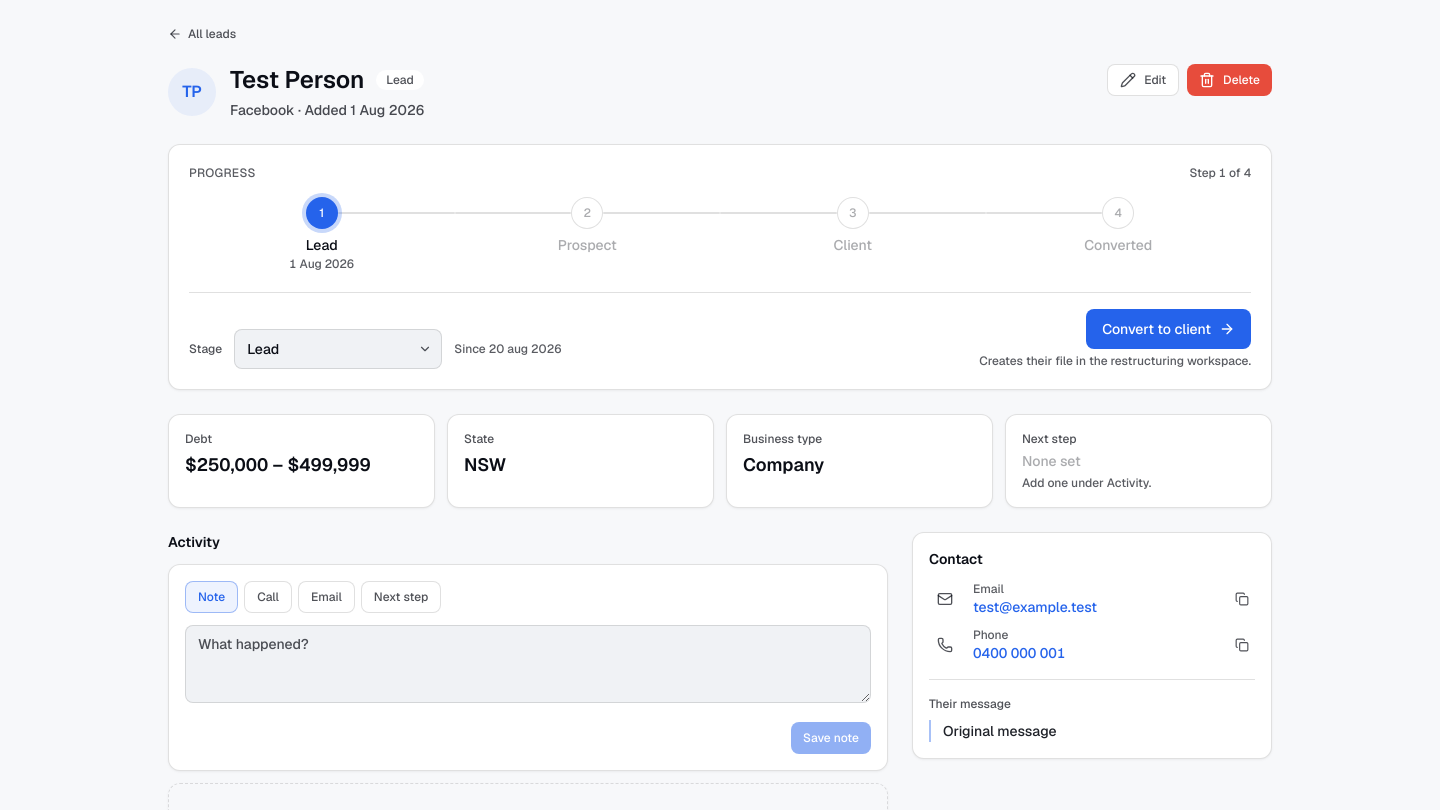
Test: Edit lead › opens prefilled from the lead
This screenshot has width=1440, height=810.
Click the button "Edit" at [1143, 80], box x1=1107 y1=64 x2=1179 y2=96
(page scrolled)
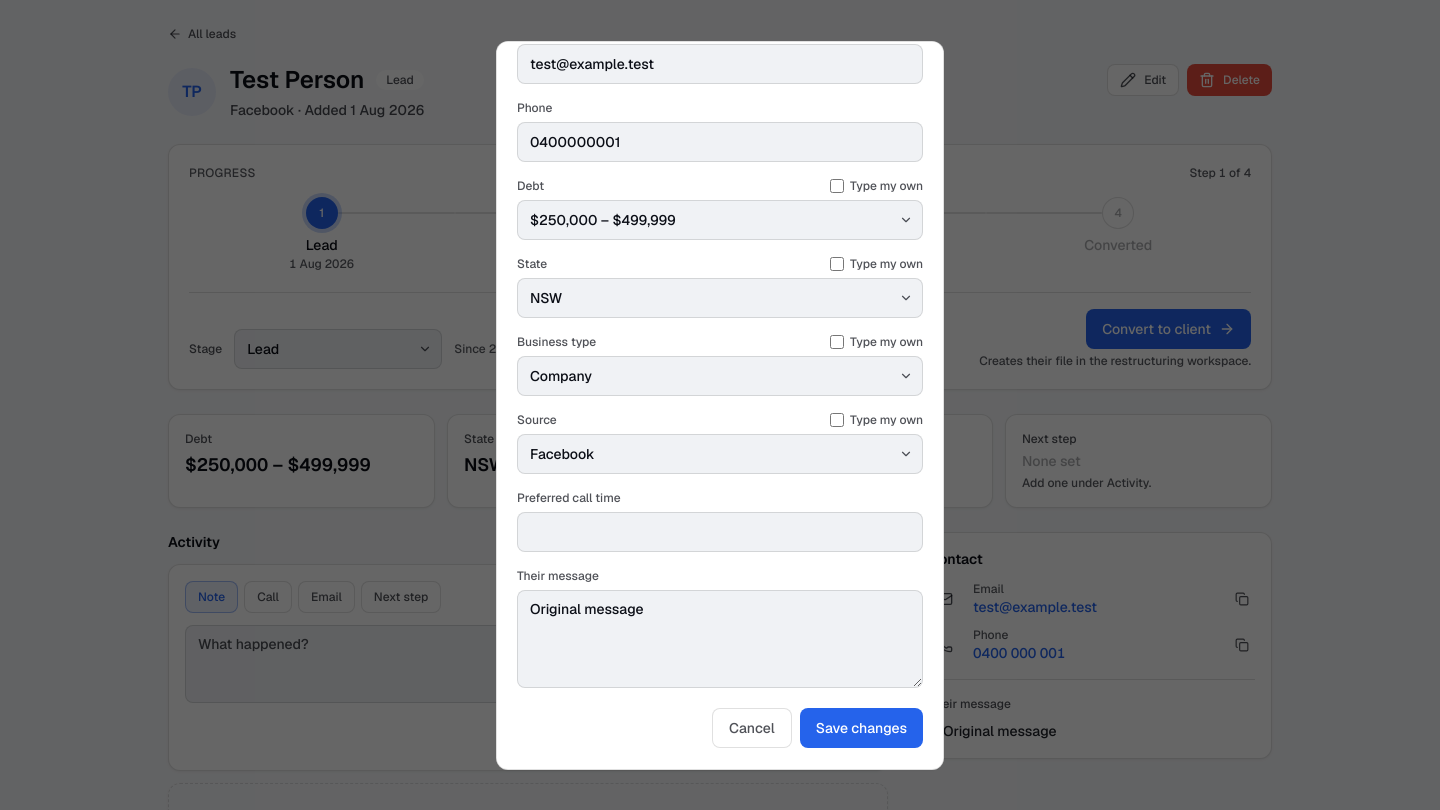
Expected: the field labelled "Email" holds "test@example.test", x1=517 y1=44 x2=923 y2=84
Expected: the dropdown labelled "Source" shows "Facebook", x1=517 y1=434 x2=923 y2=474
Expected: the text box labelled "Their message" holds "Original message", x1=517 y1=590 x2=923 y2=688
